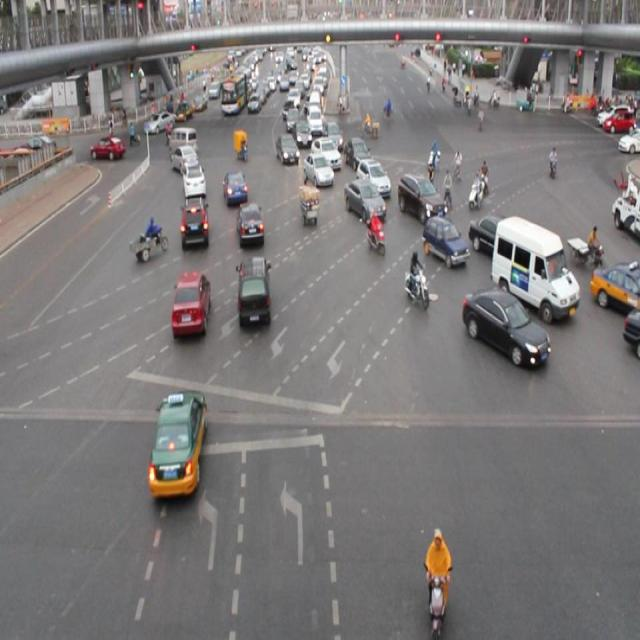car: (462, 291, 550, 368), (148, 389, 204, 501), (467, 211, 529, 265), (586, 261, 640, 314), (237, 256, 272, 332), (420, 214, 468, 266), (173, 269, 209, 338), (396, 173, 444, 223), (344, 178, 385, 221), (179, 197, 210, 253), (357, 157, 390, 196), (237, 203, 264, 249), (309, 135, 342, 171), (302, 152, 332, 191), (344, 136, 372, 170), (170, 144, 199, 176), (223, 171, 248, 206), (182, 162, 205, 197), (275, 134, 300, 166), (623, 309, 640, 355)
truck: (489, 215, 578, 320)
